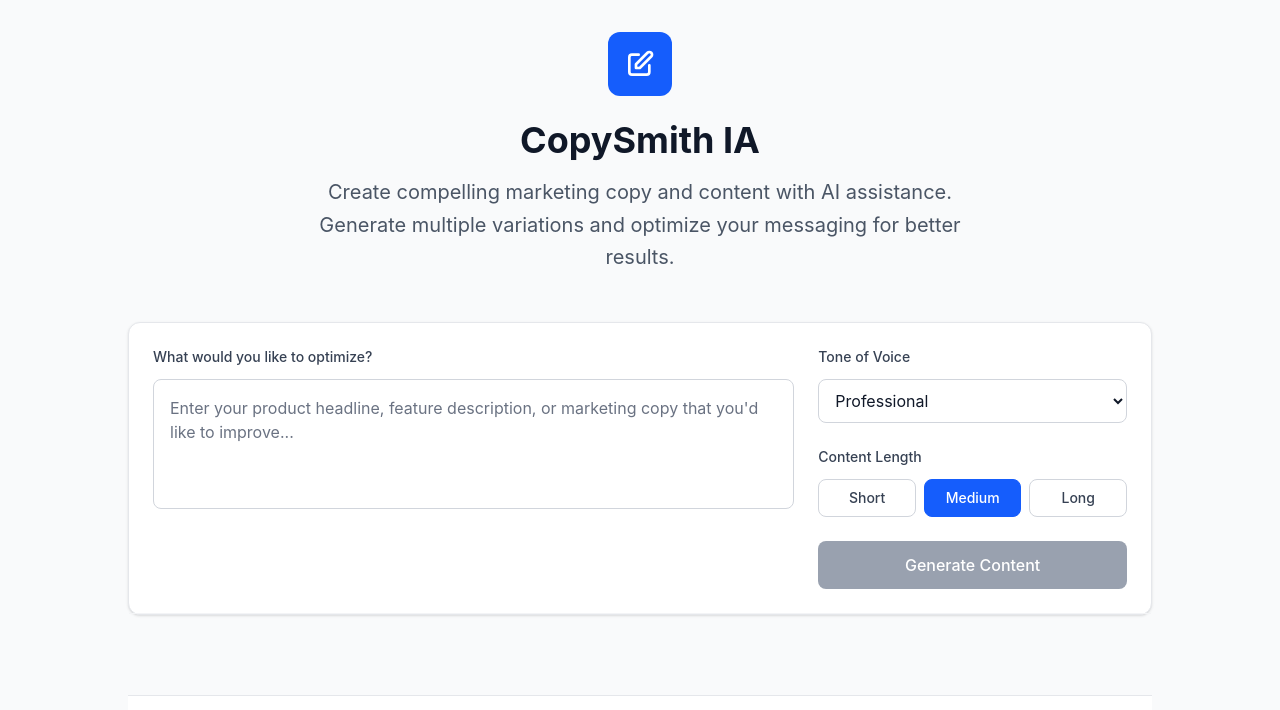
Test: Main Flow Test › Generates content and copies to clipboard
The image size is (1280, 710).
Note: Enter text in the textarea
Step 1. Type "My product headline" into the text box → (474, 444), box [153,379,794,509]
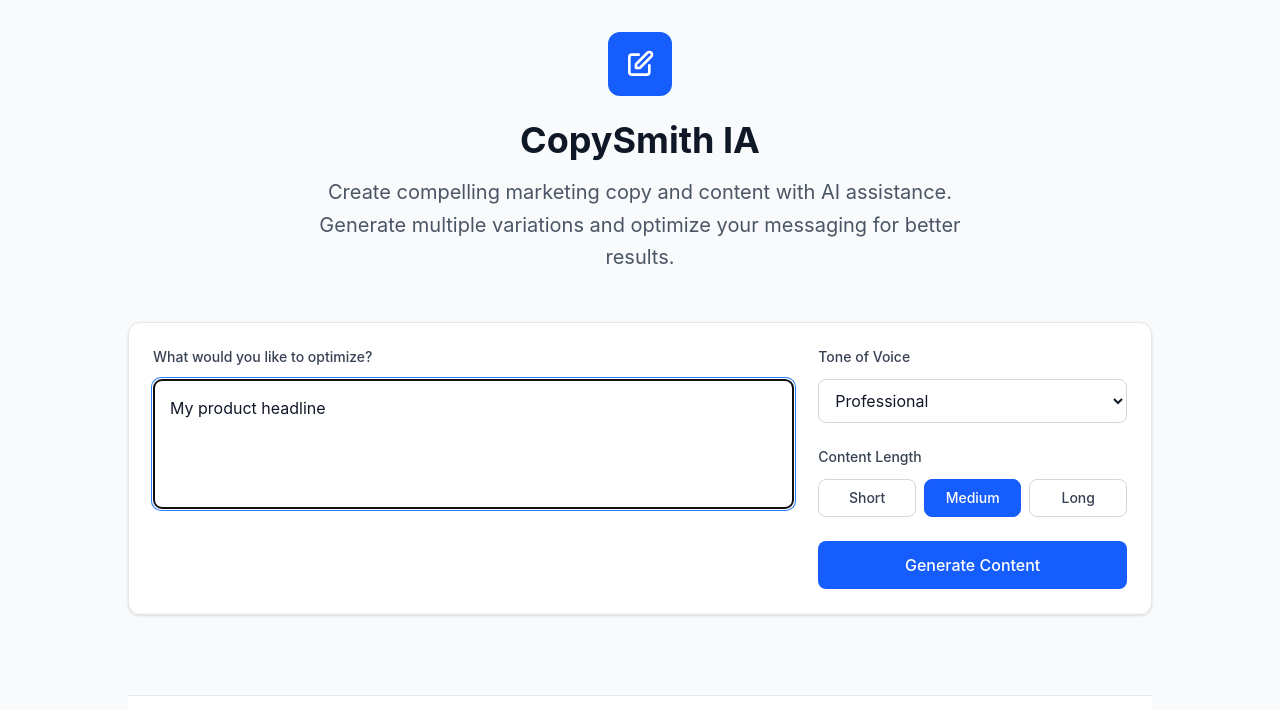
Note: Select a tone
Step 2. Select "Professional" in the dropdown → (973, 401), box [818,379,1127,423]
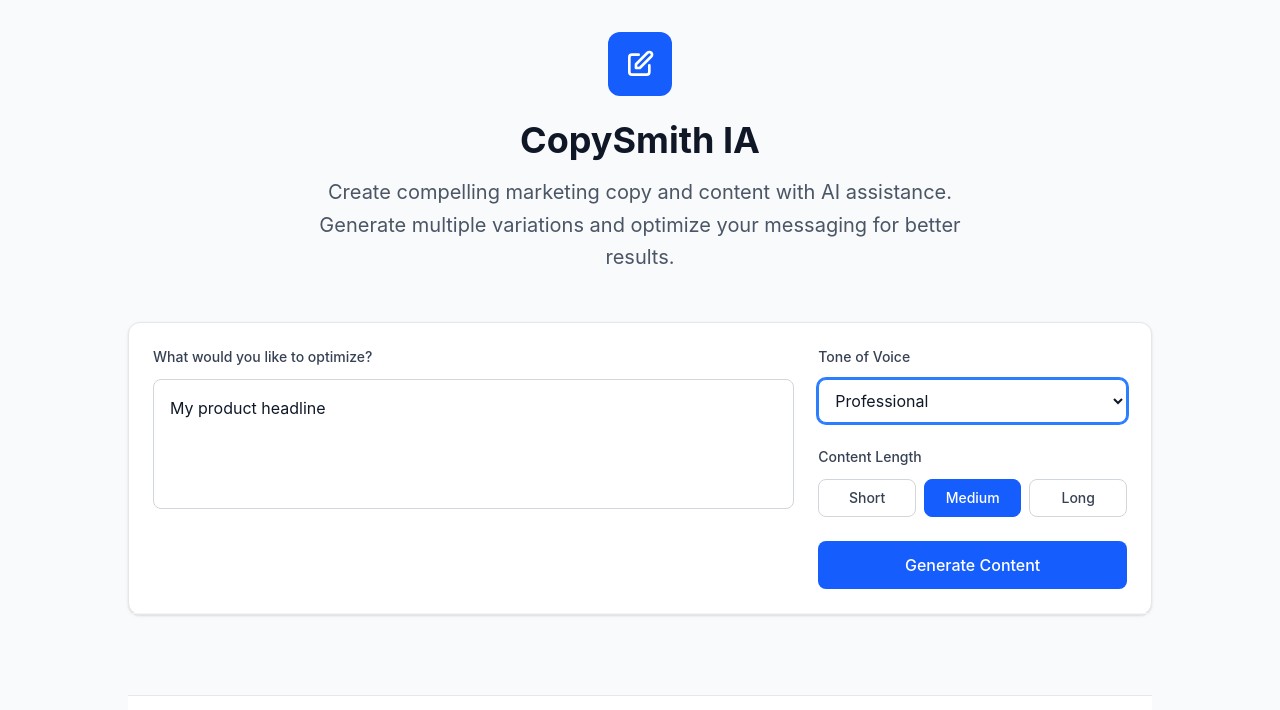
Note: Select a length
Step 3. Click the button "Medium" → (973, 498), box [924,479,1022,517]
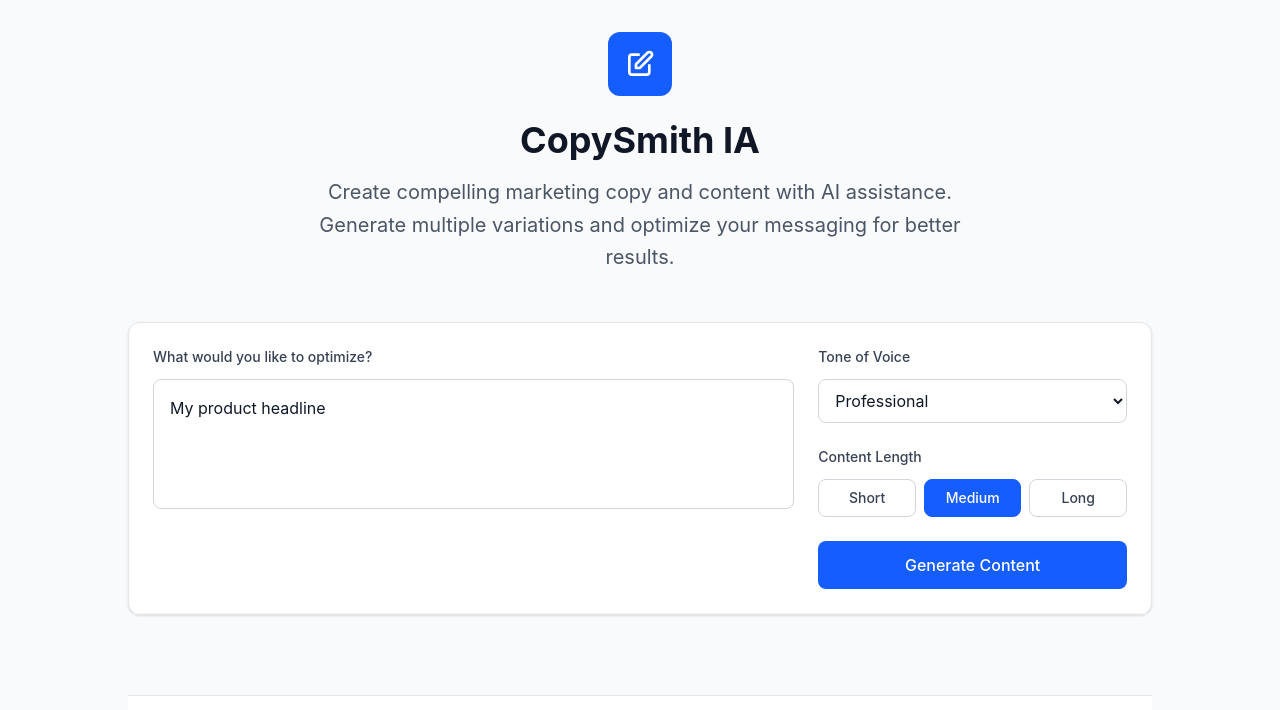
Note: Click the generate button
Step 4. Click the button "Generate Content" → (973, 565), box [818,541,1127,589]
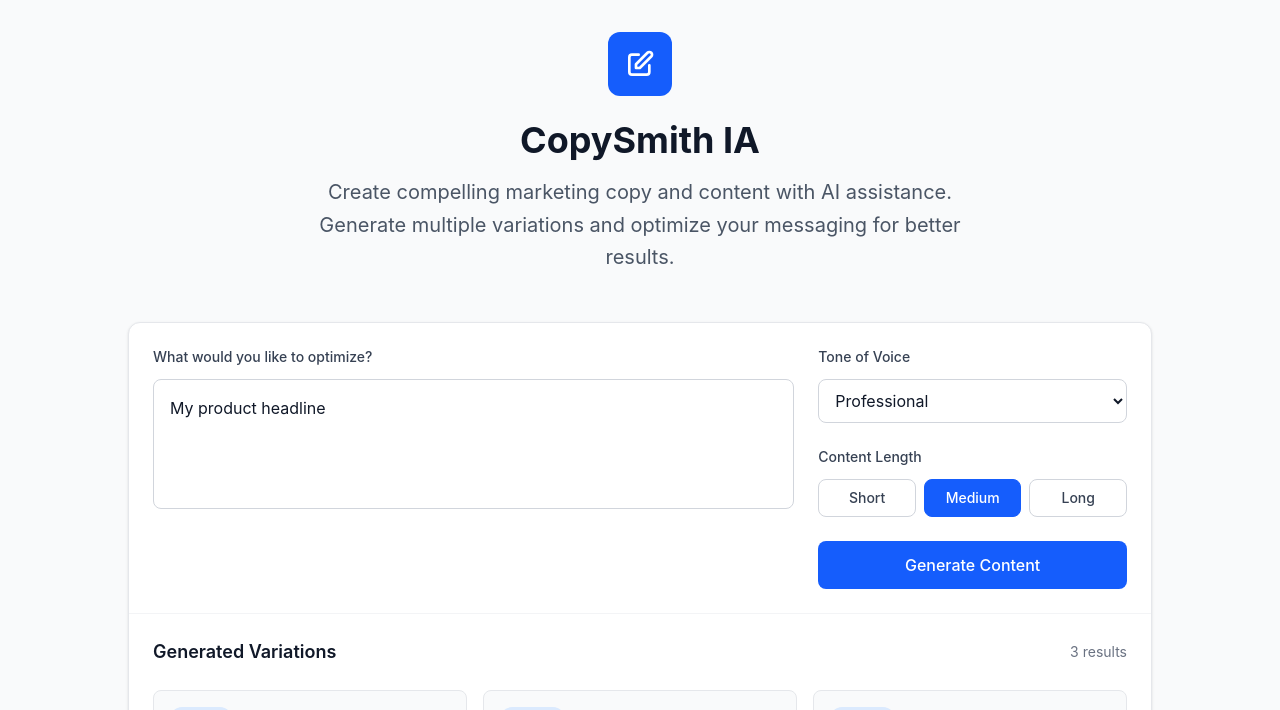
Expected: the heading "Generated Variations" is shown, [153,638,336,666]
